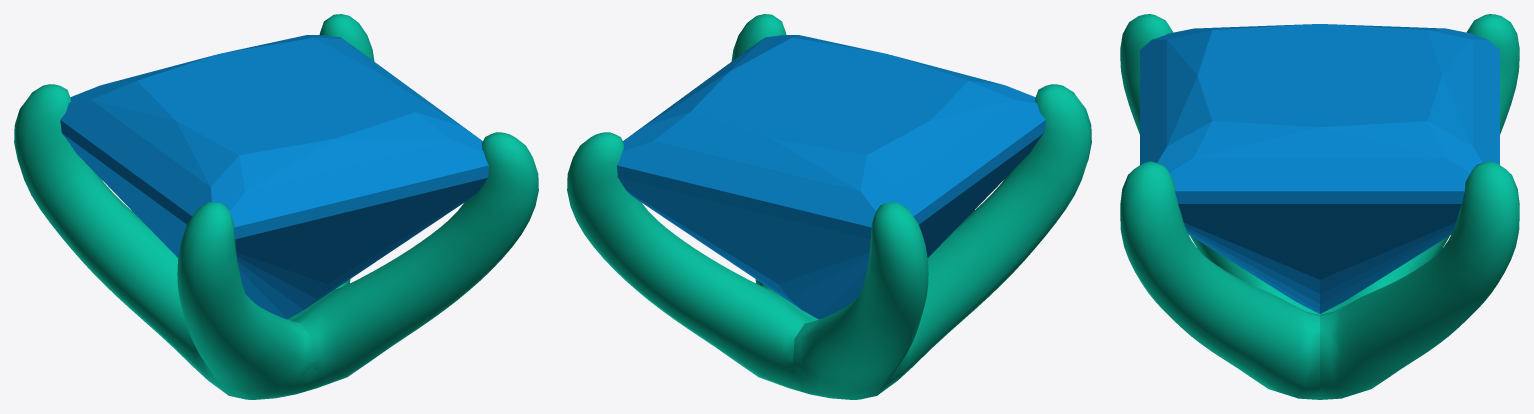
File: princess.glb
3 views of the same model, side by side, from view 1: azimuth 30°, elevation 25°; view 2: azimuth 150°, elevation 25°; view 3: azimuth 270°, elevation 25° (orthographic). The views are drawn at different scales.
Parts seen in each view (by area): view 1: DIA-PRNHD-B1-1, MTL-HEAD-1 (×4); view 2: DIA-PRNHD-B1-1, MTL-HEAD-1 (×4); view 3: DIA-PRNHD-B1-1, MTL-HEAD-1 (×4).
Part boxes in pixels (x1=…): DIA-PRNHD-B1-1: x1=60, y1=35, x2=488, y2=319; MTL-HEAD-1 (×4): x1=14, y1=14, x2=538, y2=399; DIA-PRNHD-B1-1: x1=617, y1=35, x2=1045, y2=319; MTL-HEAD-1 (×4): x1=567, y1=14, x2=1091, y2=399; DIA-PRNHD-B1-1: x1=1140, y1=24, x2=1499, y2=313; MTL-HEAD-1 (×4): x1=1120, y1=14, x2=1519, y2=399.
Bounding box in the file's own units: 8.28 × 6.41 × 7.66.
